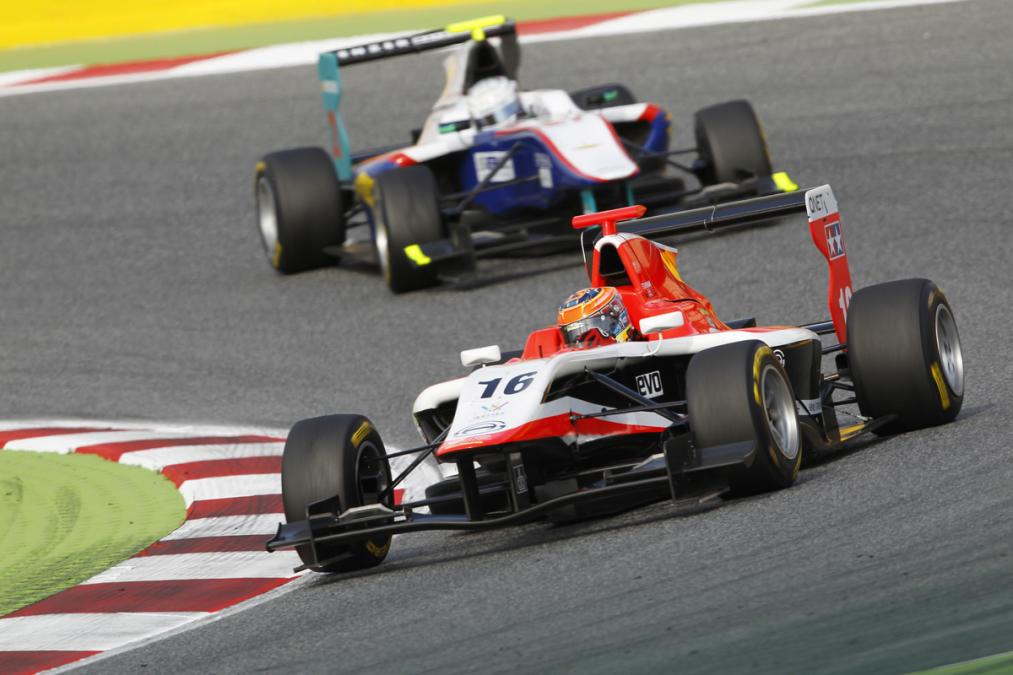race car: (263, 183, 969, 602), (255, 12, 818, 301)
